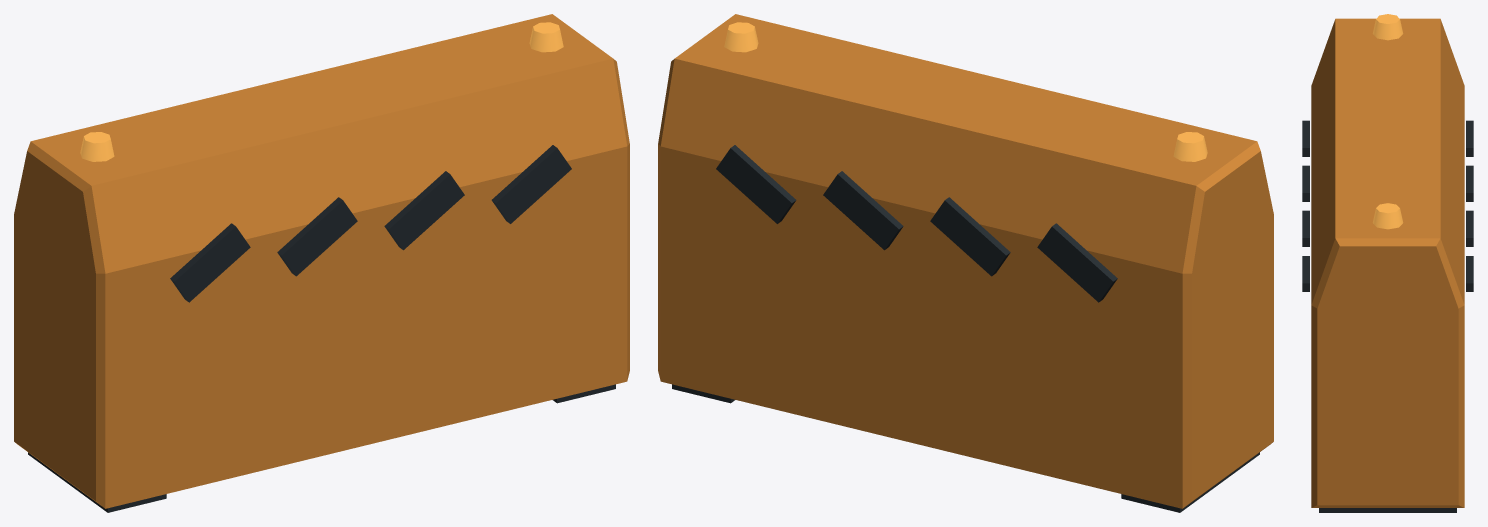
File: roadwork.glb
The picture shows the model from 3 angles, left to right: view 1: azimuth 30°, elevation 25°; view 2: azimuth 150°, elevation 25°; view 3: azimuth 270°, elevation 25°; orthographic projection. The views are drawn at different scales.
Bounding box in the file's own units: 3.09 × 1.87 × 0.995.
